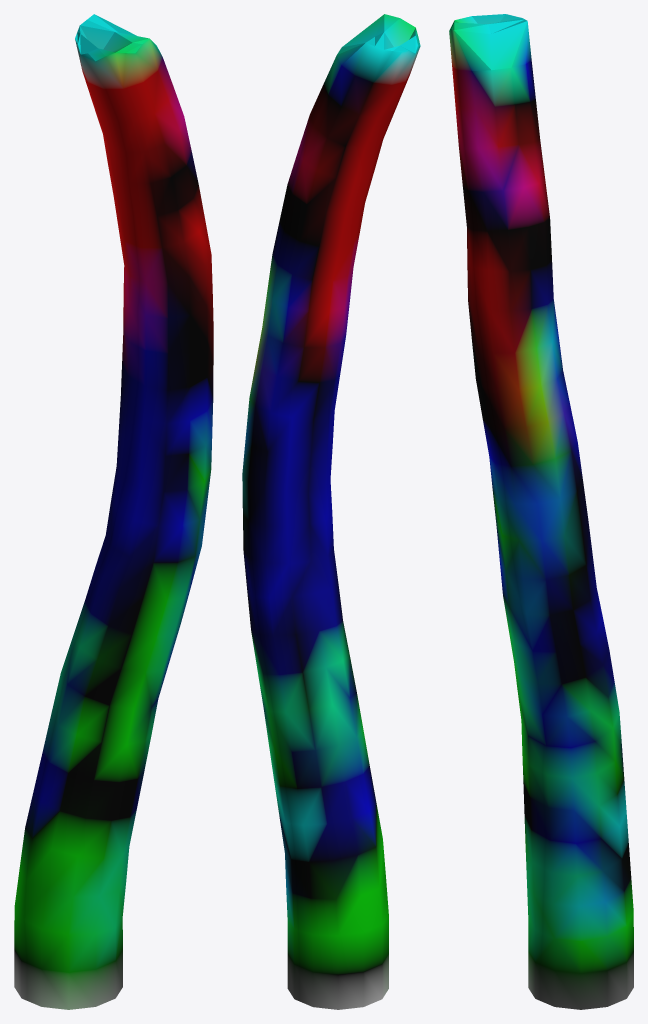
Rendered from SM_Tree_10.fbx.
3 renders of one model, left to right at view 1: azimuth 30°, elevation 25°; view 2: azimuth 150°, elevation 25°; view 3: azimuth 270°, elevation 25°, orthographic. The views are drawn at different scales.
Visible parts, largest first — view 1: SM_Tree_10_LOD0; view 2: SM_Tree_10_LOD0; view 3: SM_Tree_10_LOD0.
Boxes of the visible parts, left/top/right/bottom form: SM_Tree_10_LOD0: left=14, top=14, right=213, bottom=1009; SM_Tree_10_LOD0: left=242, top=14, right=420, bottom=1009; SM_Tree_10_LOD0: left=449, top=14, right=633, bottom=1009.
Bounding box in the file's own units: 53.21 × 53.56 × 309.
